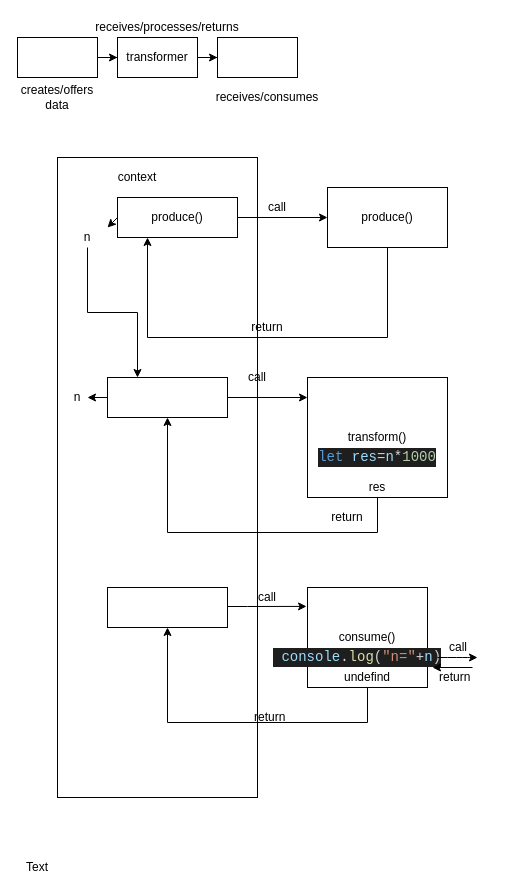
The diagram is 505 pixels wide and 894 high, and some of its shapes have lost their labels. The shapes that lost their labels are listed below. From the top down, each one's centre as x and y in pixels, then its label:
At point (57, 57): "producer".
At point (257, 57): "consumer".
At point (167, 397): "transform(n)".
At point (167, 607): "consume(n)".
